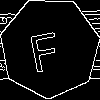F: (24, 23, 63, 73)
